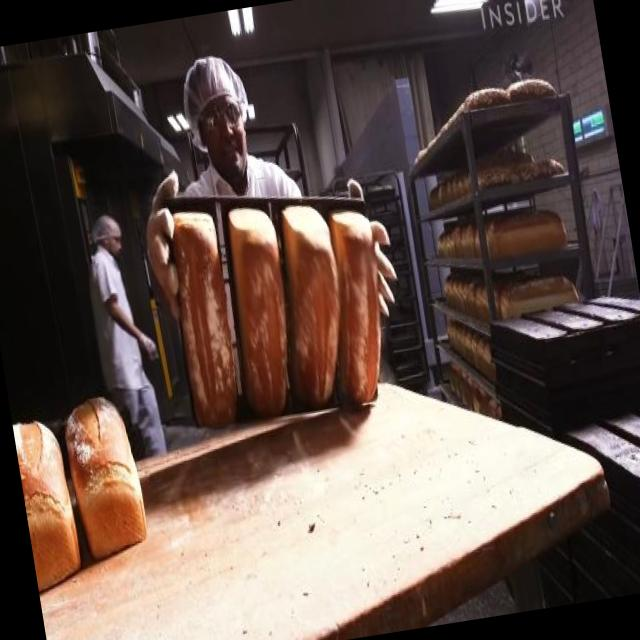hairnet: (178, 54, 250, 118), (86, 211, 124, 244)
